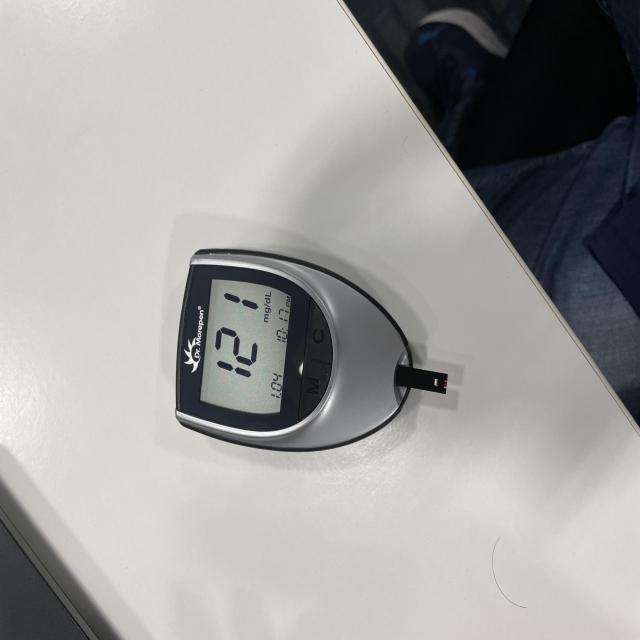gluco: (172, 243, 457, 453)
